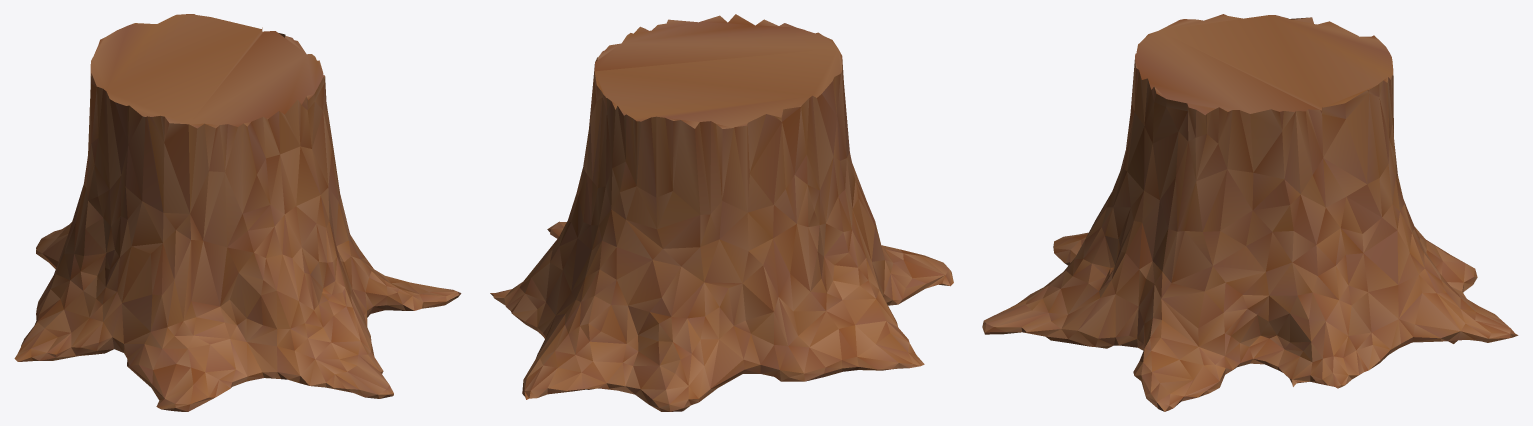
Rendered from redwood_stump.glb.
The picture shows the model from 3 angles, left to right: view 1: azimuth 30°, elevation 25°; view 2: azimuth 150°, elevation 25°; view 3: azimuth 270°, elevation 25°; orthographic projection. The views are drawn at different scales.
Parts seen in each view (by area): view 1: Stump; view 2: Stump; view 3: Stump.
Part boxes in pixels (x1=…): Stump: x1=14, y1=14, x2=461, y2=411; Stump: x1=490, y1=14, x2=953, y2=411; Stump: x1=982, y1=14, x2=1518, y2=411.
Bounding box in the file's own units: 1.68 × 0.9747 × 1.89.
